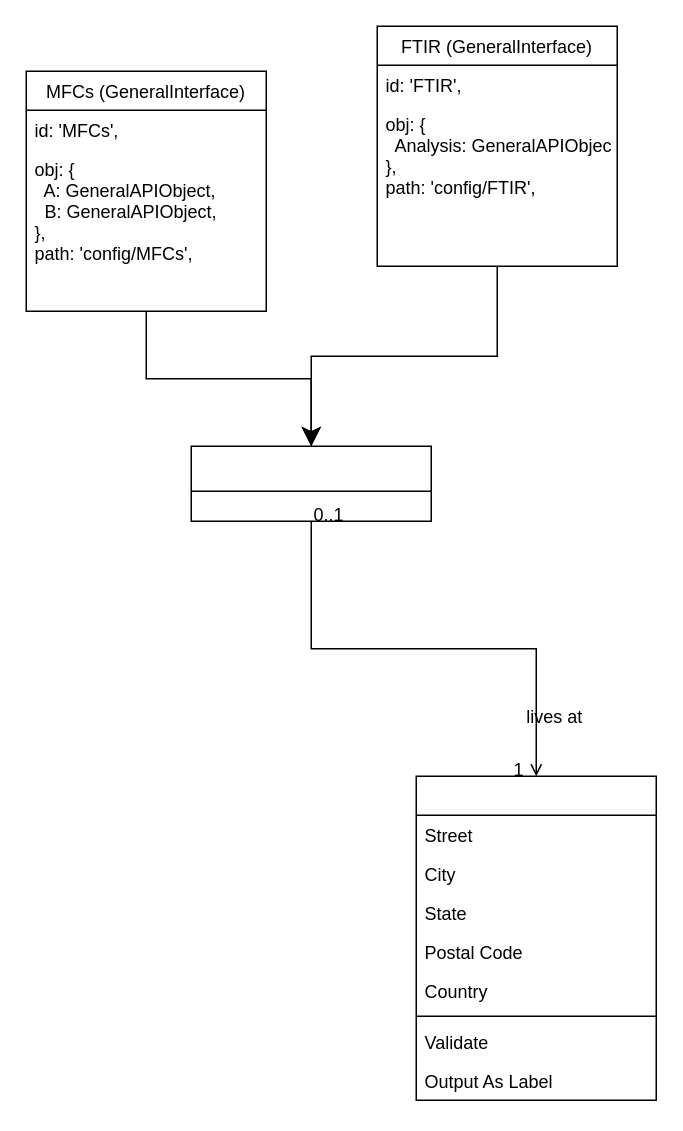
Some shapes in this 683 by 1131 pixel diagram are drawn without their labels. Each missing label, with the box of its shape:
Address: (415, 775, 656, 1100)
api.baseServices[]: (190, 445, 431, 521)
